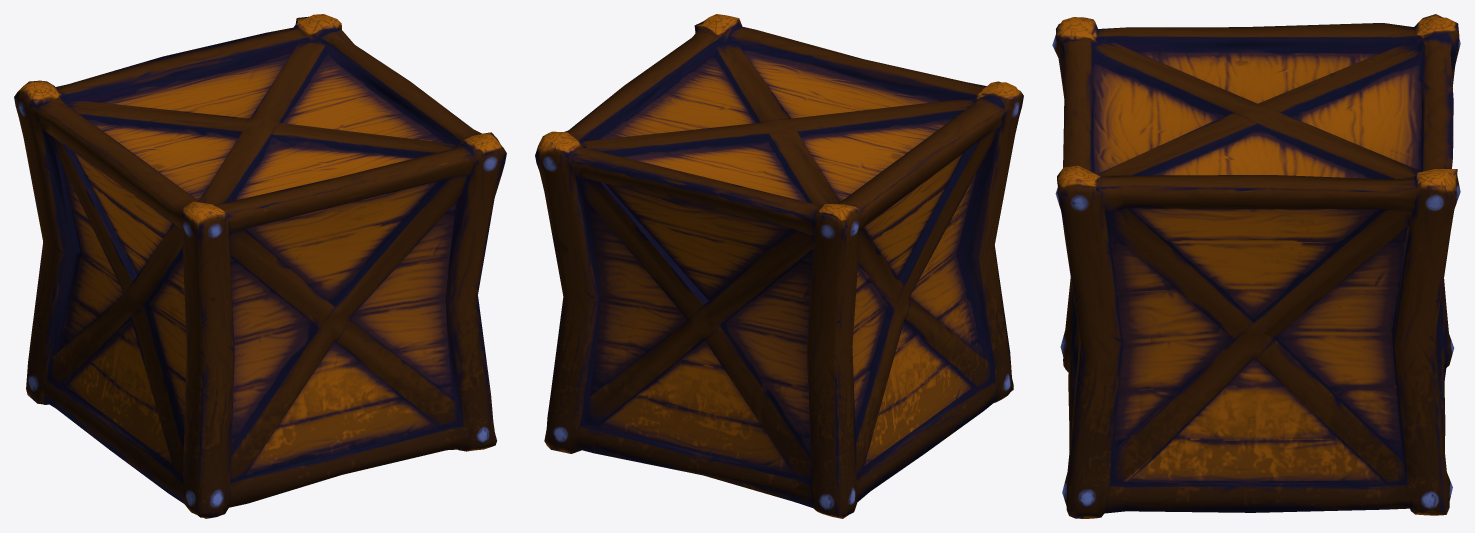
Rendered from jump_box.glb.
3 views of the same model, side by side, from view 1: azimuth 30°, elevation 25°; view 2: azimuth 150°, elevation 25°; view 3: azimuth 270°, elevation 25° (orthographic). The views are drawn at different scales.
Parts seen in each view (by area): view 1: Caja_Madera_LP; view 2: Caja_Madera_LP; view 3: Caja_Madera_LP.
Part boxes in pixels (x1,y1,x2,y2): Caja_Madera_LP: (14, 14, 506, 518); Caja_Madera_LP: (535, 14, 1023, 518); Caja_Madera_LP: (1052, 14, 1460, 518).
Bounding box in the file's own units: 110 × 103 × 111.
Materials: 1 (1 with a texture image).
